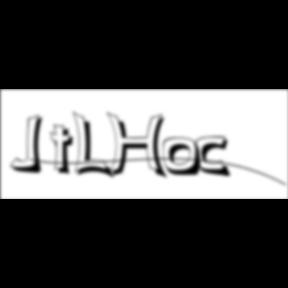H: (107, 112, 173, 182)
J: (11, 114, 50, 176)
L: (73, 110, 117, 182)
c: (195, 136, 235, 180)
o: (162, 137, 204, 179)
t: (50, 124, 82, 179)
